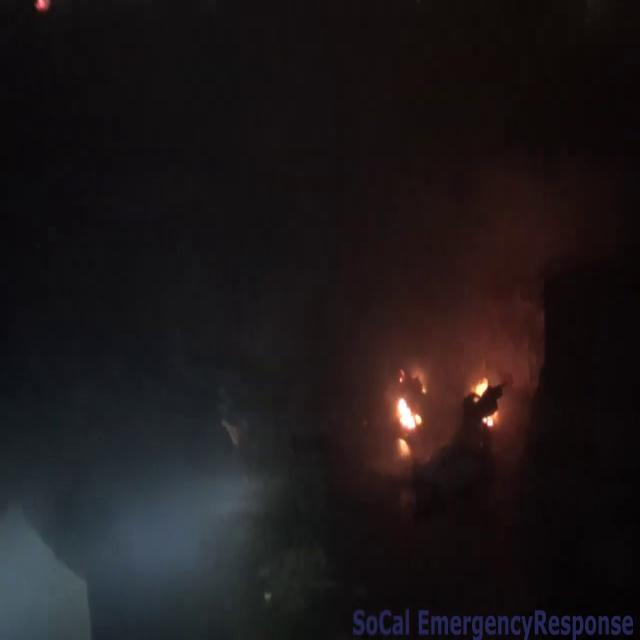Fire: (462, 364, 502, 440), (391, 383, 427, 448)
